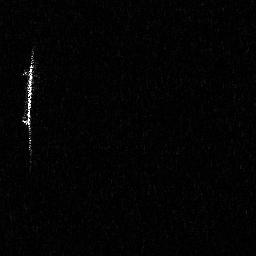ship: (22, 47, 38, 172)
